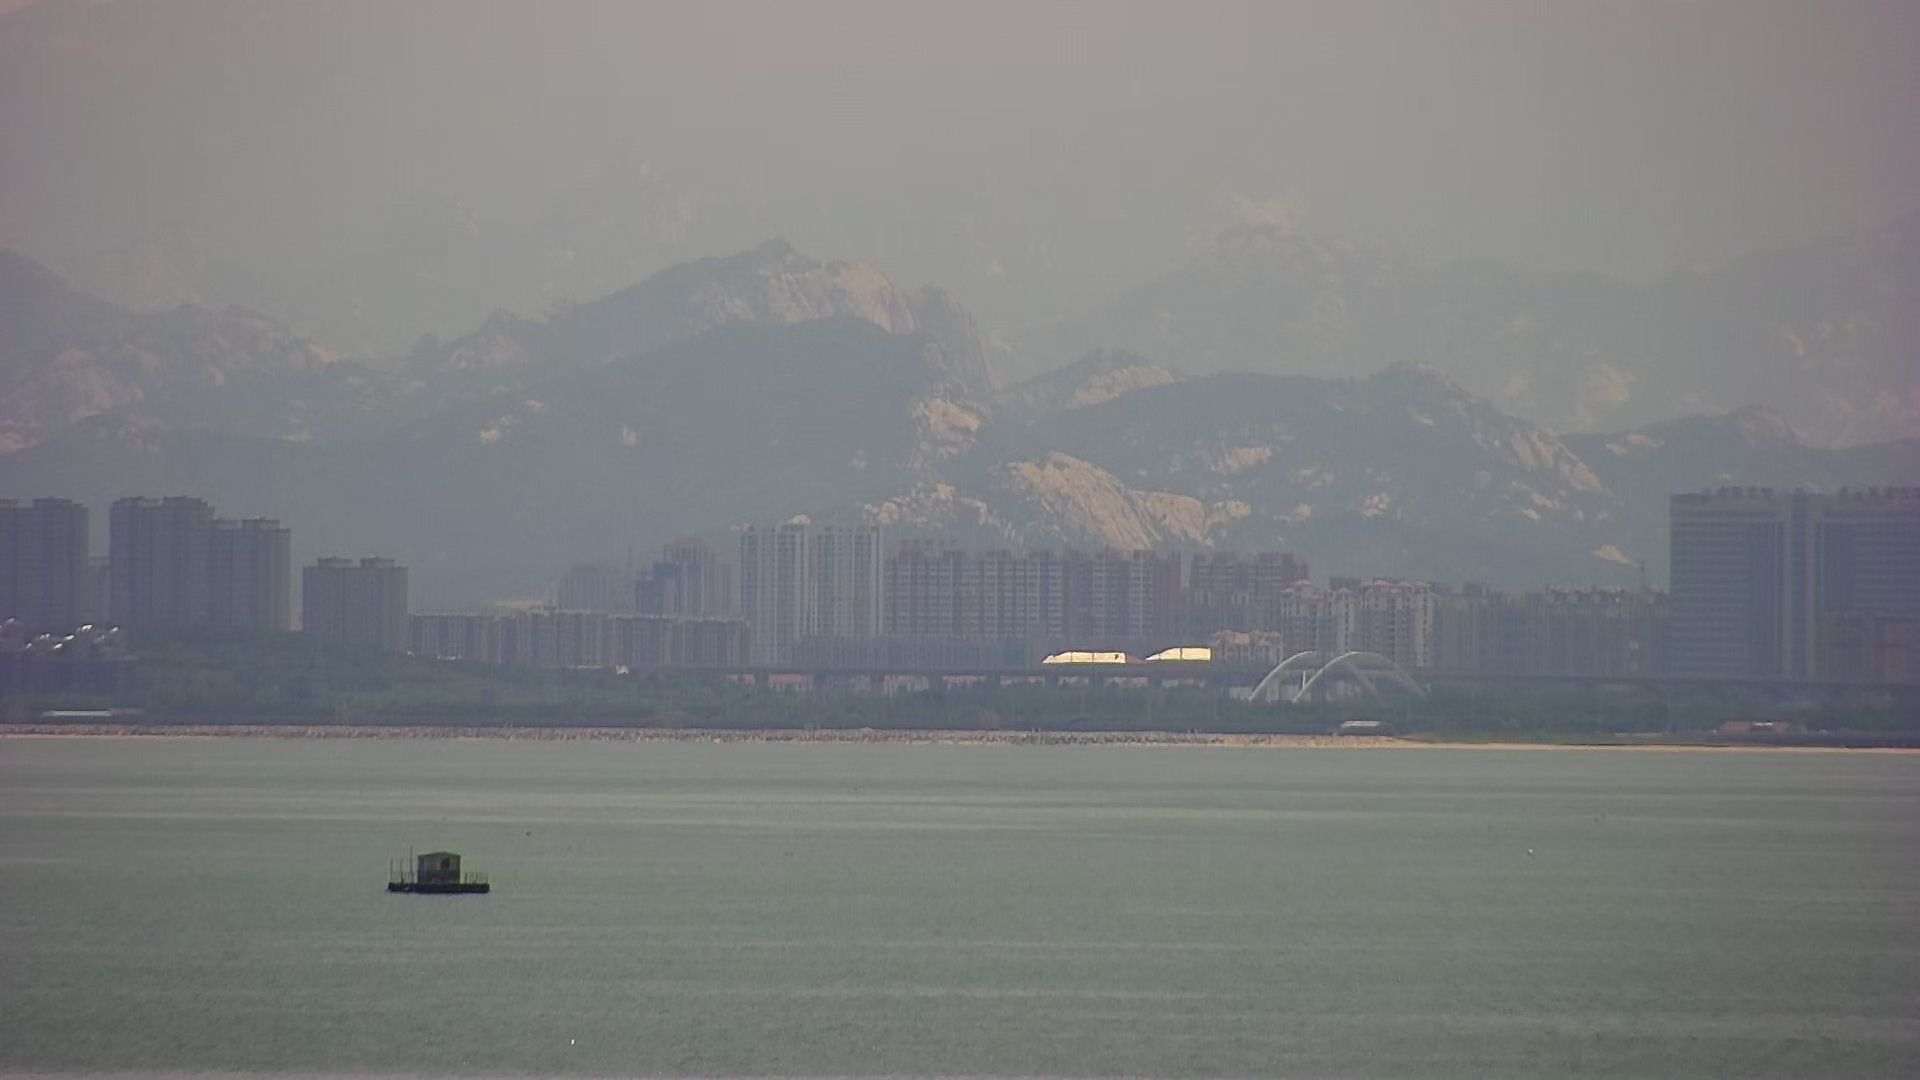platform: (384, 848, 495, 902)
